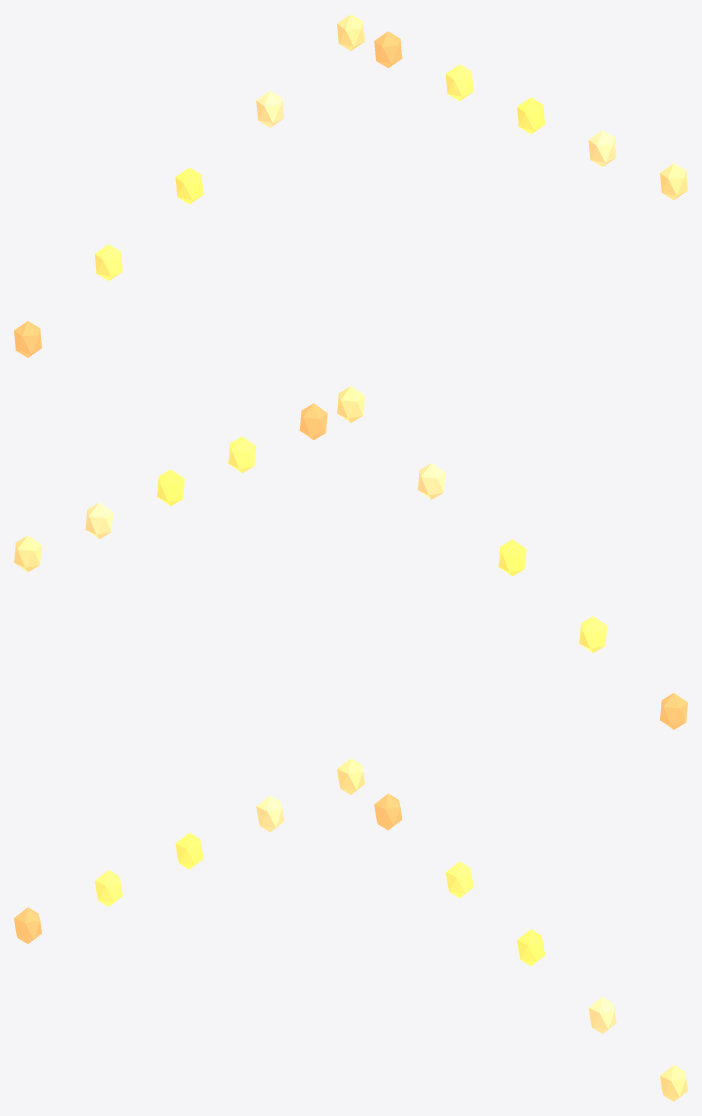
The model's file is Shed_Lights.glb.
The picture shows the model from 3 angles, top to bottom: view 1: azimuth 30°, elevation 25°; view 2: azimuth 150°, elevation 25°; view 3: azimuth 330°, elevation 25°; orthographic projection.
Visible parts, largest first — view 1: Shed_Lights; view 2: Shed_Lights; view 3: Shed_Lights.
Boxes of the visible parts, x1,y1,x2,y2 form: Shed_Lights: (14, 14, 687, 357); Shed_Lights: (14, 386, 687, 729); Shed_Lights: (14, 758, 687, 1101).
Size of the model in its own units: 10.79 by 4.08 by 0.3743.
